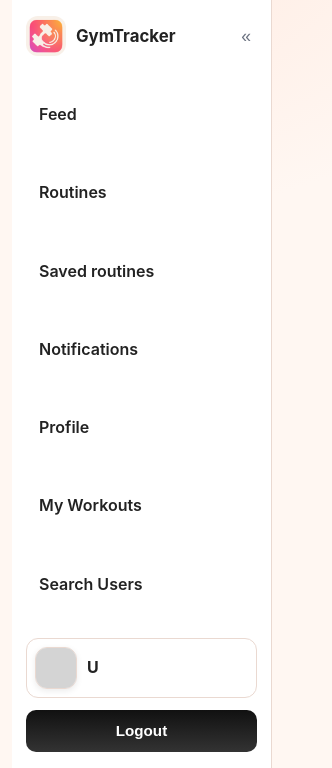
Test: Sidebar Component › toggles collapse
Click the button named "Collapse sidebar": (246, 36) [235,24,257,48]
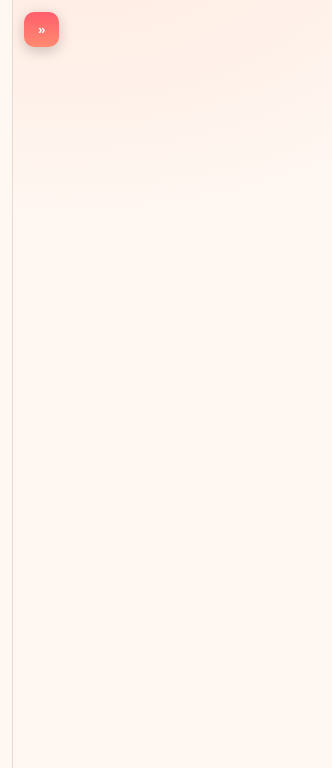
Now the button named "Mostrar sidebar" is shown, box [24,12,59,47]
